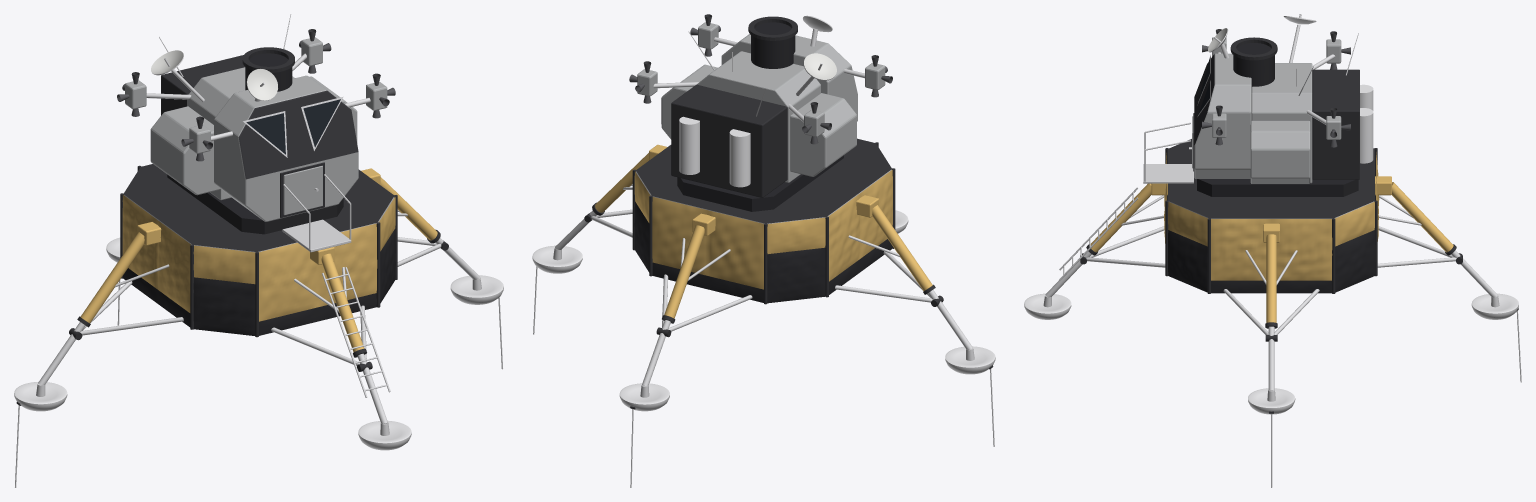
File: lander.glb
3 views of the same model, side by side, from view 1: azimuth 30°, elevation 25°; view 2: azimuth 150°, elevation 25°; view 3: azimuth 270°, elevation 25° (orthographic). The views are drawn at different scales.
Parts seen in each view (by area): view 1: AS_Cabin, DS_Deck, DS_Face_7, DS_Face_5, AS_Cheek_Right, DS_Bay_6, AS_Base, DS_BayTop_6, AS_Mid, AS_AftBay, AS_Hatch, DS_Band_7 (+19 smaller); view 2: AS_AftBay, DS_Deck, DS_Face_3, AS_Mid, AS_Cheek_Right, DS_Face_5, DS_Bay_4, AS_Base, AS_Cabin, DS_BayTop_4, AS_Tunnel, DS_Band_3 (+13 smaller); view 3: DS_Face_1, AS_Cabin, DS_Deck, AS_AftBay, AS_Cheek_Left, AS_Mid, AS_Base, DS_Bay_2, DS_Bay_0, DS_Band_1, AS_Tunnel, DS_BayTop_0 (+10 smaller).
Boxes of the visible parts, left/top/right/bottom form: AS_Cabin: left=214, top=75, right=358, bottom=221; DS_Deck: left=124, top=164, right=394, bottom=252; DS_Face_7: left=259, top=223, right=377, bottom=321; DS_Face_5: left=122, top=195, right=190, bottom=312; AS_Cheek_Right: left=150, top=106, right=220, bottom=195; DS_Bay_6: left=193, top=277, right=255, bottom=335; AS_Base: left=167, top=174, right=343, bottom=234; DS_BayTop_6: left=193, top=245, right=255, bottom=284; AS_Mid: left=187, top=67, right=294, bottom=200; AS_AftBay: left=161, top=55, right=244, bottom=115; AS_Hatch: left=283, top=165, right=322, bottom=215; DS_Band_7: left=259, top=293, right=376, bottom=335; AS_AftBay: left=671, top=84, right=787, bottom=197; DS_Deck: left=636, top=138, right=891, bottom=223; DS_Face_3: left=652, top=197, right=763, bottom=289; AS_Mid: left=697, top=51, right=820, bottom=182; AS_Cheek_Right: left=790, top=93, right=856, bottom=176; DS_Face_5: left=828, top=170, right=892, bottom=281; DS_Bay_4: left=767, top=247, right=825, bottom=303; AS_Base: left=677, top=155, right=843, bottom=211; AS_Cabin: left=721, top=34, right=857, bottom=121; DS_BayTop_4: left=767, top=217, right=825, bottom=253; AS_Tunnel: left=751, top=22, right=795, bottom=68; DS_Band_3: left=652, top=262, right=763, bottom=302; DS_Face_1: left=1211, top=219, right=1332, bottom=280; AS_Cabin: left=1194, top=53, right=1251, bottom=178; DS_Deck: left=1168, top=139, right=1374, bottom=218; AS_AftBay: left=1312, top=69, right=1359, bottom=179; AS_Cheek_Left: left=1250, top=120, right=1310, bottom=183; AS_Mid: left=1251, top=63, right=1312, bottom=183; AS_Base: left=1197, top=179, right=1358, bottom=196; DS_Bay_2: left=1335, top=230, right=1375, bottom=292; DS_Bay_0: left=1168, top=230, right=1207, bottom=292; DS_Band_1: left=1211, top=280, right=1331, bottom=293; AS_Tunnel: left=1233, top=43, right=1274, bottom=86; DS_BayTop_0: left=1168, top=202, right=1207, bottom=246.
Size of the model in its own units: 10.07 by 7.56 by 10.01.
